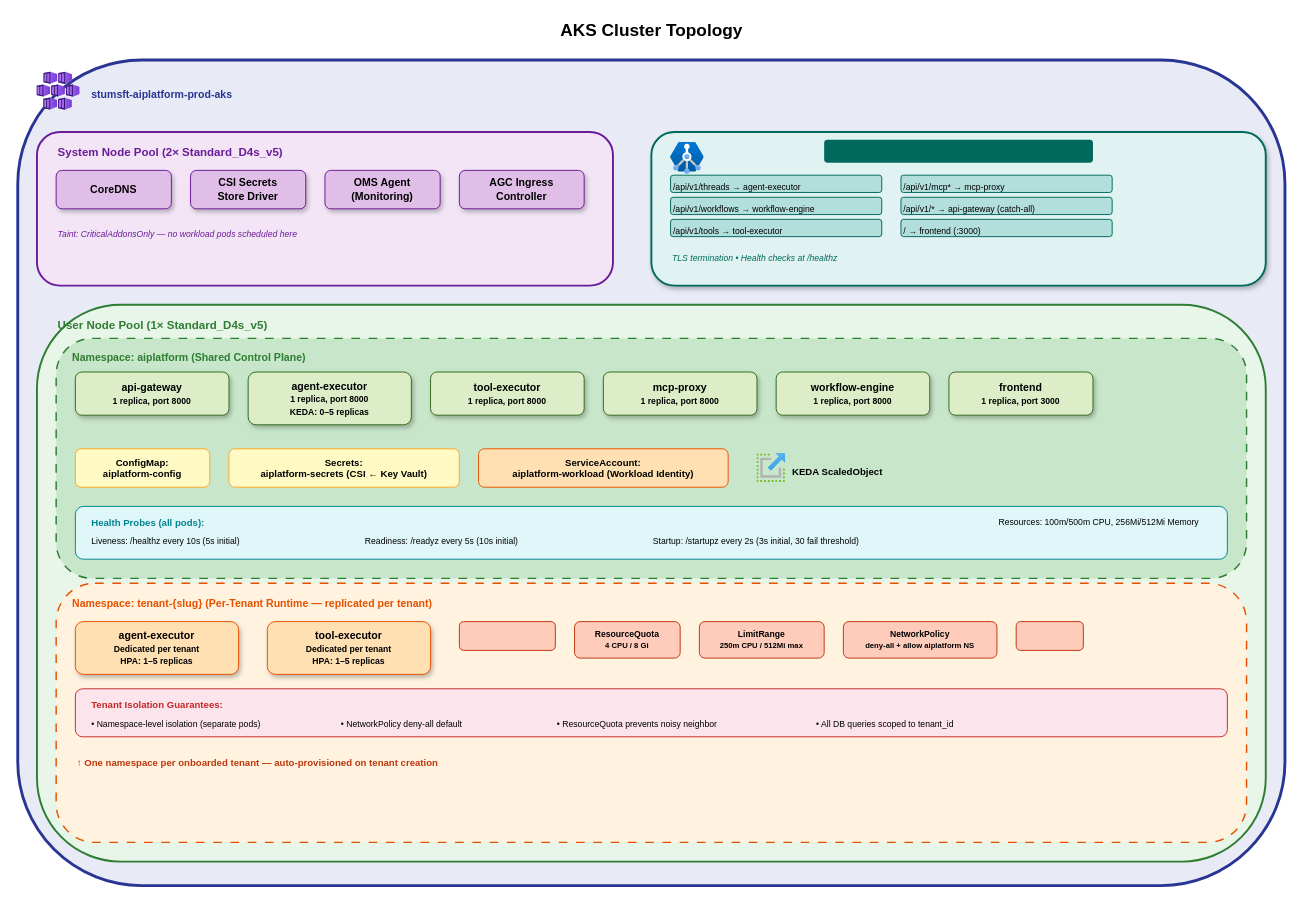
Image size: 1303x903. Some labels were removed from this diagram. The centre of each missing label's shape, as x and y in pixels:
"AGC Ingress Routing" belongs at pixel 958 150.
"AKS Cluster" belongs at pixel 58 90.
"HPA ×2" belongs at pixel 1049 635.
"ServiceAccount" belongs at pixel 506 635.
